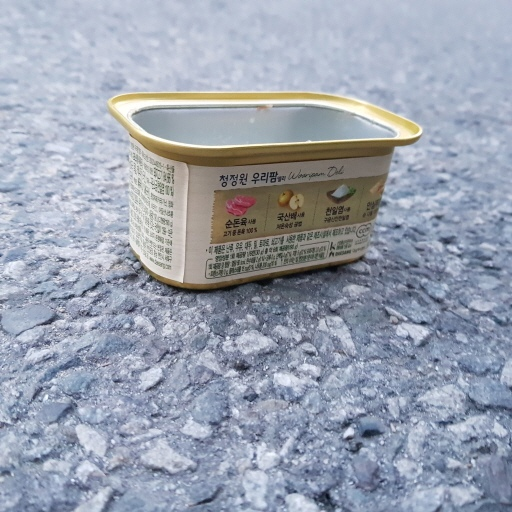Metal_2: (108, 84, 425, 279)
